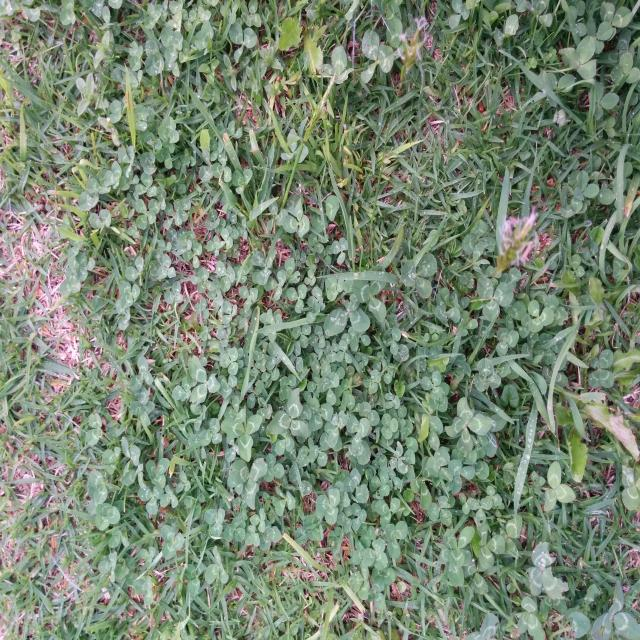Four Leaf Clover: (444, 397, 493, 455), (588, 349, 614, 389)
